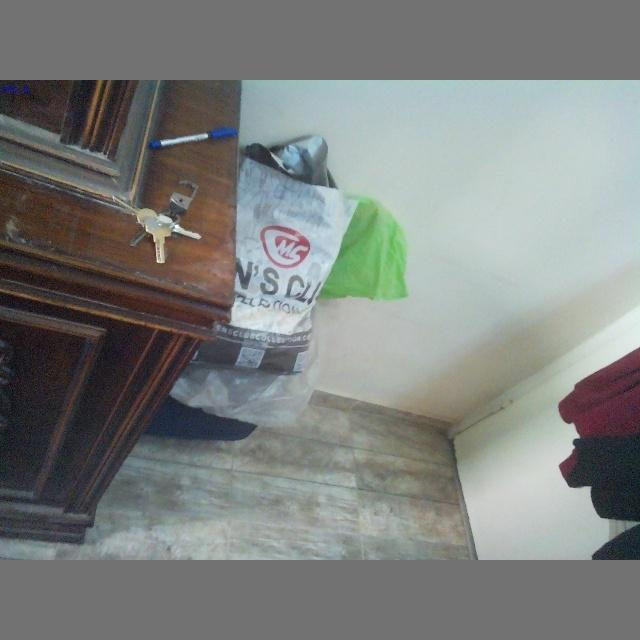Keys: (110, 173, 214, 271)
